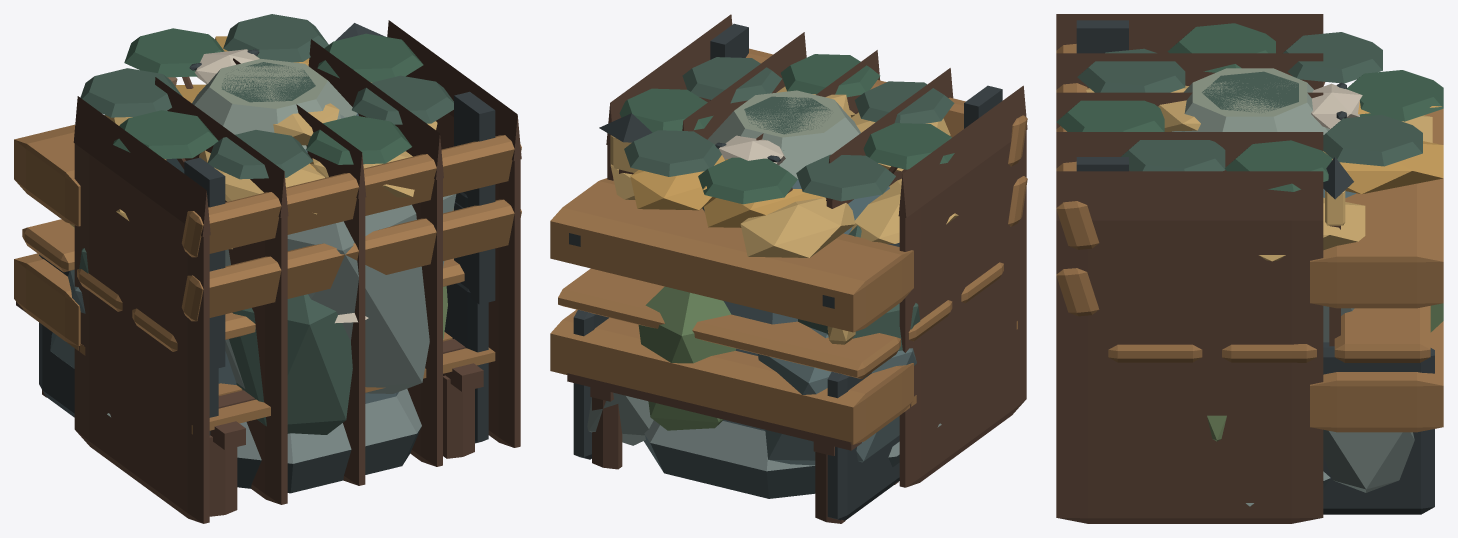
The model's file is park-props.glb.
3 renders of one model, left to right at view 1: azimuth 30°, elevation 25°; view 2: azimuth 150°, elevation 25°; view 3: azimuth 270°, elevation 25°, orthographic. The views are drawn at different scales.
Parts seen in each view (by area): view 1: Fence, CastBench, Pine, StarStone, Rockery, FlowerShrubs, Boardwalk, Ginkgo, Heron; view 2: Fence, Pine, CastBench, StarStone, Ginkgo, FlowerShrubs, Boardwalk, Rockery, Heron; view 3: Fence, Pine, CastBench, Ginkgo, StarStone, Rockery, Boardwalk, Heron, FlowerShrubs.
Part boxes in pixels (x1,y1,x2,y2): Fence: (14, 20, 521, 523); CastBench: (22, 91, 521, 443); Pine: (80, 14, 453, 179); StarStone: (166, 59, 421, 493); Rockery: (50, 114, 456, 393); FlowerShrubs: (70, 208, 453, 434); Boardwalk: (16, 23, 495, 516); Ginkgo: (104, 36, 437, 249); Heron: (107, 49, 368, 416); Fence: (550, 14, 1027, 487); Pine: (619, 54, 954, 204); CastBench: (558, 23, 1027, 520); StarStone: (644, 90, 899, 498); Ginkgo: (610, 86, 958, 257); FlowerShrubs: (638, 225, 920, 430); Boardwalk: (567, 113, 1017, 523); Rockery: (587, 300, 916, 465); Heron: (702, 135, 941, 427); Fence: (1056, 14, 1443, 523); Pine: (1056, 23, 1443, 191); CastBench: (1056, 20, 1434, 514); Ginkgo: (1086, 85, 1443, 261); StarStone: (1171, 68, 1355, 488); Rockery: (1323, 306, 1414, 492); Boardwalk: (1323, 157, 1353, 346); Heron: (1246, 82, 1441, 506); FlowerShrubs: (1207, 303, 1443, 441).
Size of the model in its own units: 1 by 1 by 1.
